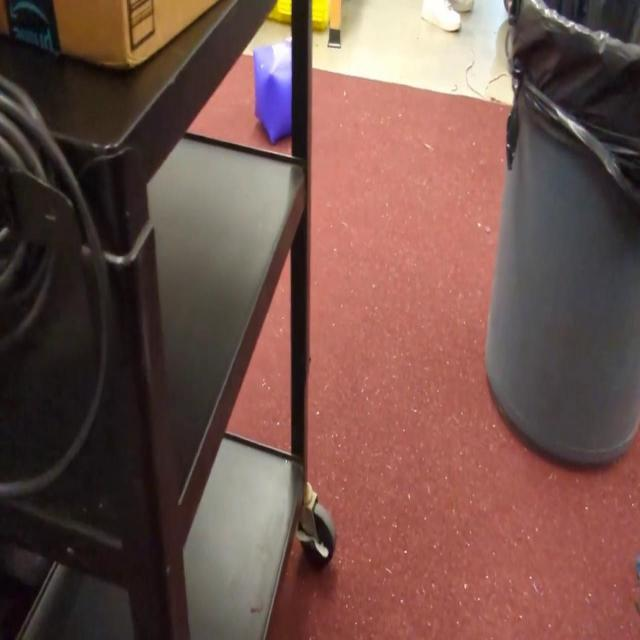frc_cube: (253, 42, 293, 142)
